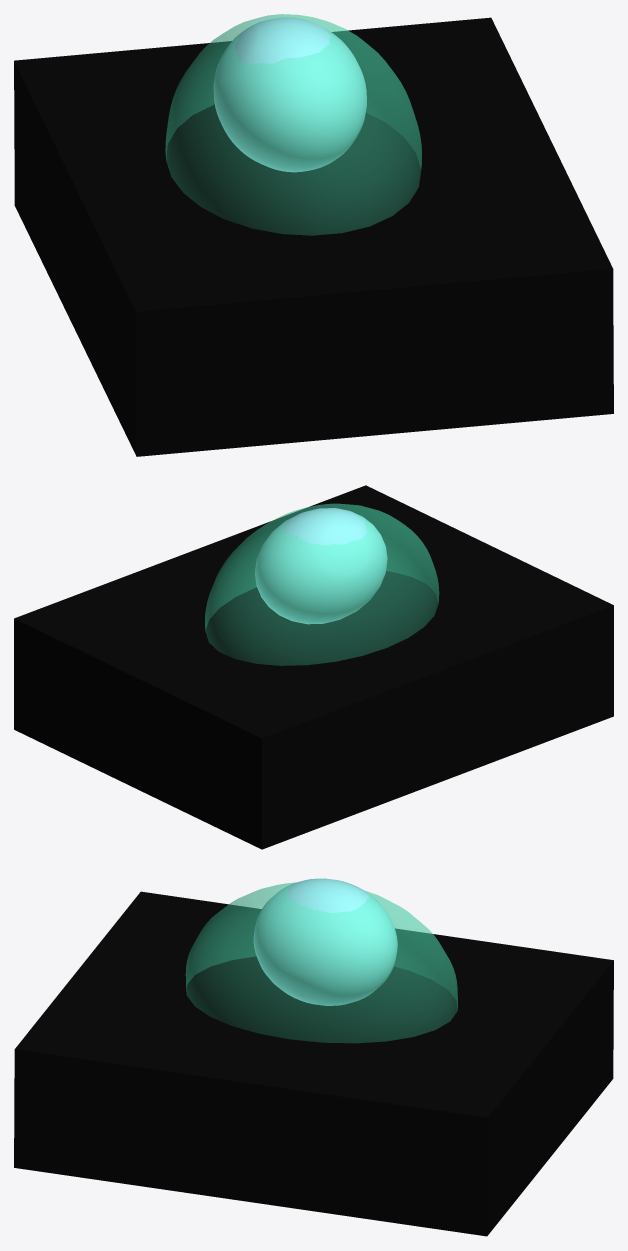
Rendered from lazer hologram puzzle lock base when hologram is off.fbx.
3 renders of one model, top to bottom at view 1: azimuth 30°, elevation 25°; view 2: azimuth 150°, elevation 25°; view 3: azimuth 270°, elevation 25°, orthographic. The views are drawn at different scales.
Visible parts, largest first — view 1: 153dc8ec-3d4a-4de5-8859-bdbbabc074d4; view 2: 153dc8ec-3d4a-4de5-8859-bdbbabc074d4; view 3: 153dc8ec-3d4a-4de5-8859-bdbbabc074d4.
Part boxes in pixels (bbox=[...]): 153dc8ec-3d4a-4de5-8859-bdbbabc074d4: bbox=[14, 14, 613, 456]; 153dc8ec-3d4a-4de5-8859-bdbbabc074d4: bbox=[14, 485, 613, 849]; 153dc8ec-3d4a-4de5-8859-bdbbabc074d4: bbox=[14, 878, 613, 1236].
Size of the model in its own units: 49402 by 23580 by 55326.
